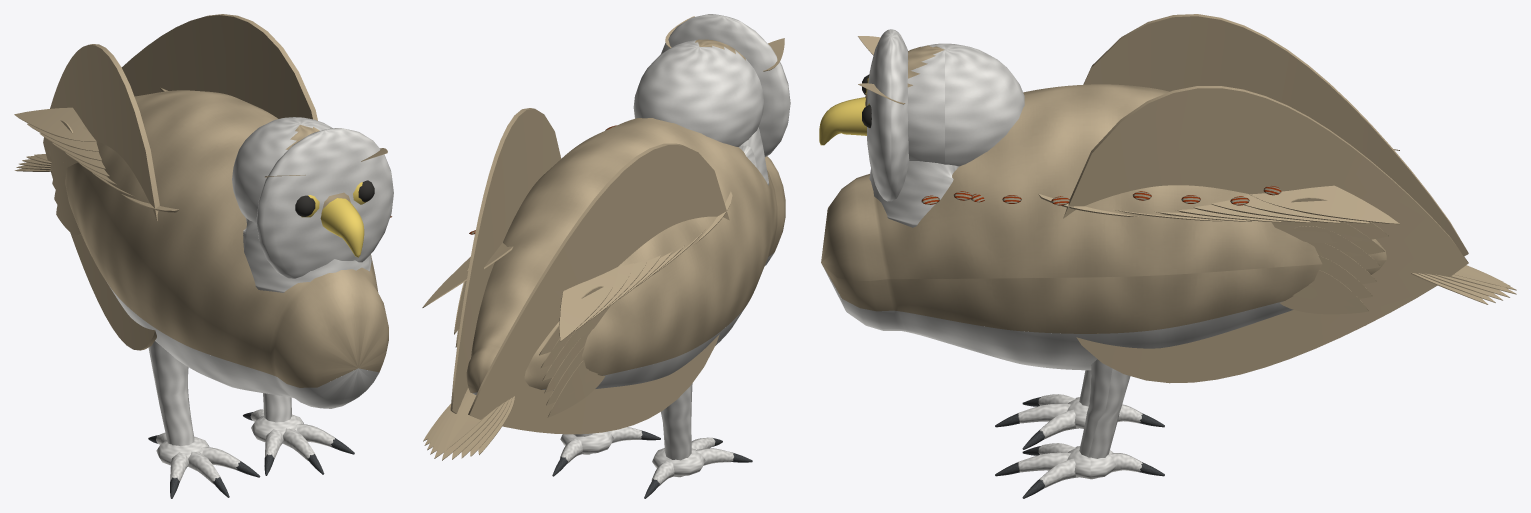
Rendered from CC0_original_birds-and-reptiles-hd-barn-owl-b51d286f.glb.
The picture shows the model from 3 angles, left to right: view 1: azimuth 30°, elevation 25°; view 2: azimuth 150°, elevation 25°; view 3: azimuth 270°, elevation 25°; orthographic projection. The views are drawn at different scales.
Visible parts, largest first — view 1: barn-owl; view 2: barn-owl; view 3: barn-owl.
Boxes of the visible parts, x1,y1,x2,y2 form: barn-owl: (14, 14, 393, 498); barn-owl: (422, 14, 790, 498); barn-owl: (819, 14, 1516, 498).
Size of the model in its own units: 0.206 by 0.4006 by 0.6072.
Materials: 6 (4 with a texture image).
